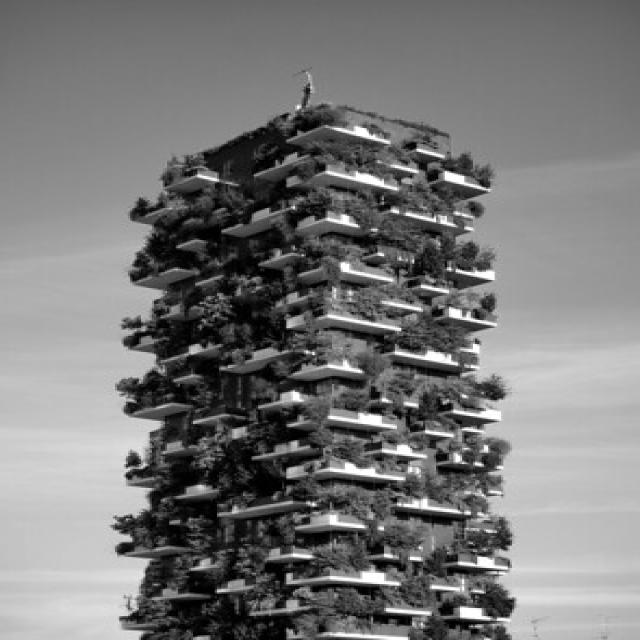building: (100, 93, 523, 640)
